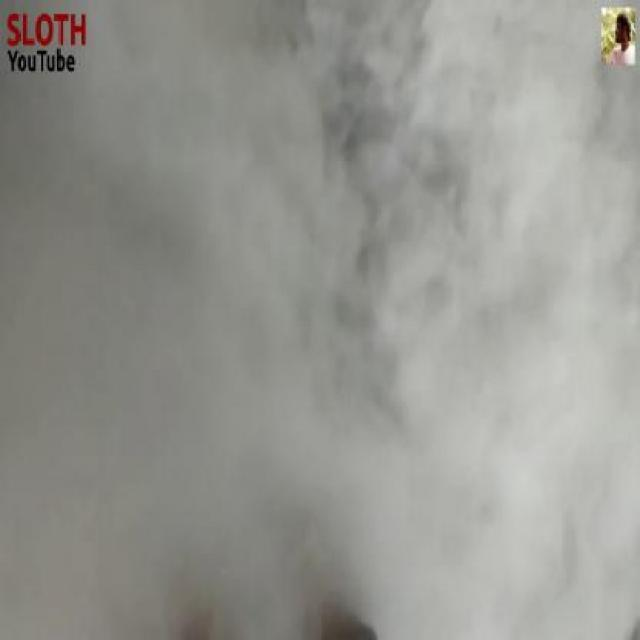smoke: (99, 180, 512, 480)
